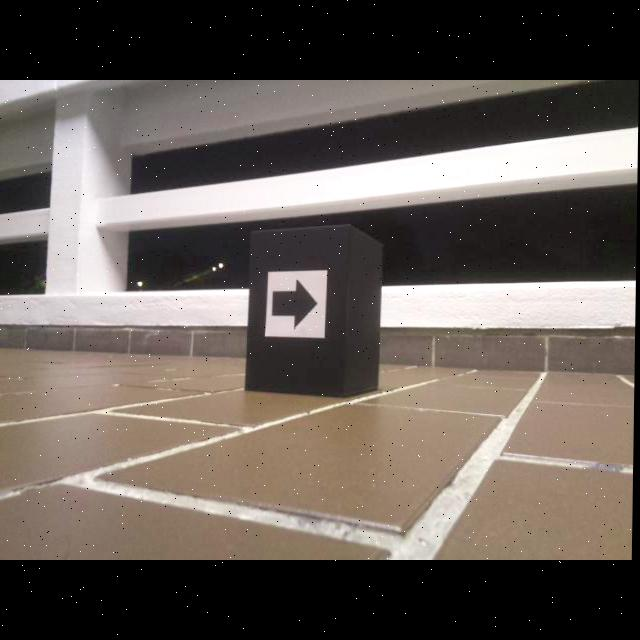RIGHT: (272, 281, 319, 328)
